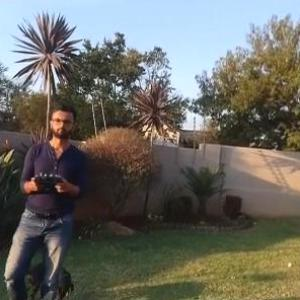follow: (1, 96, 88, 299)
